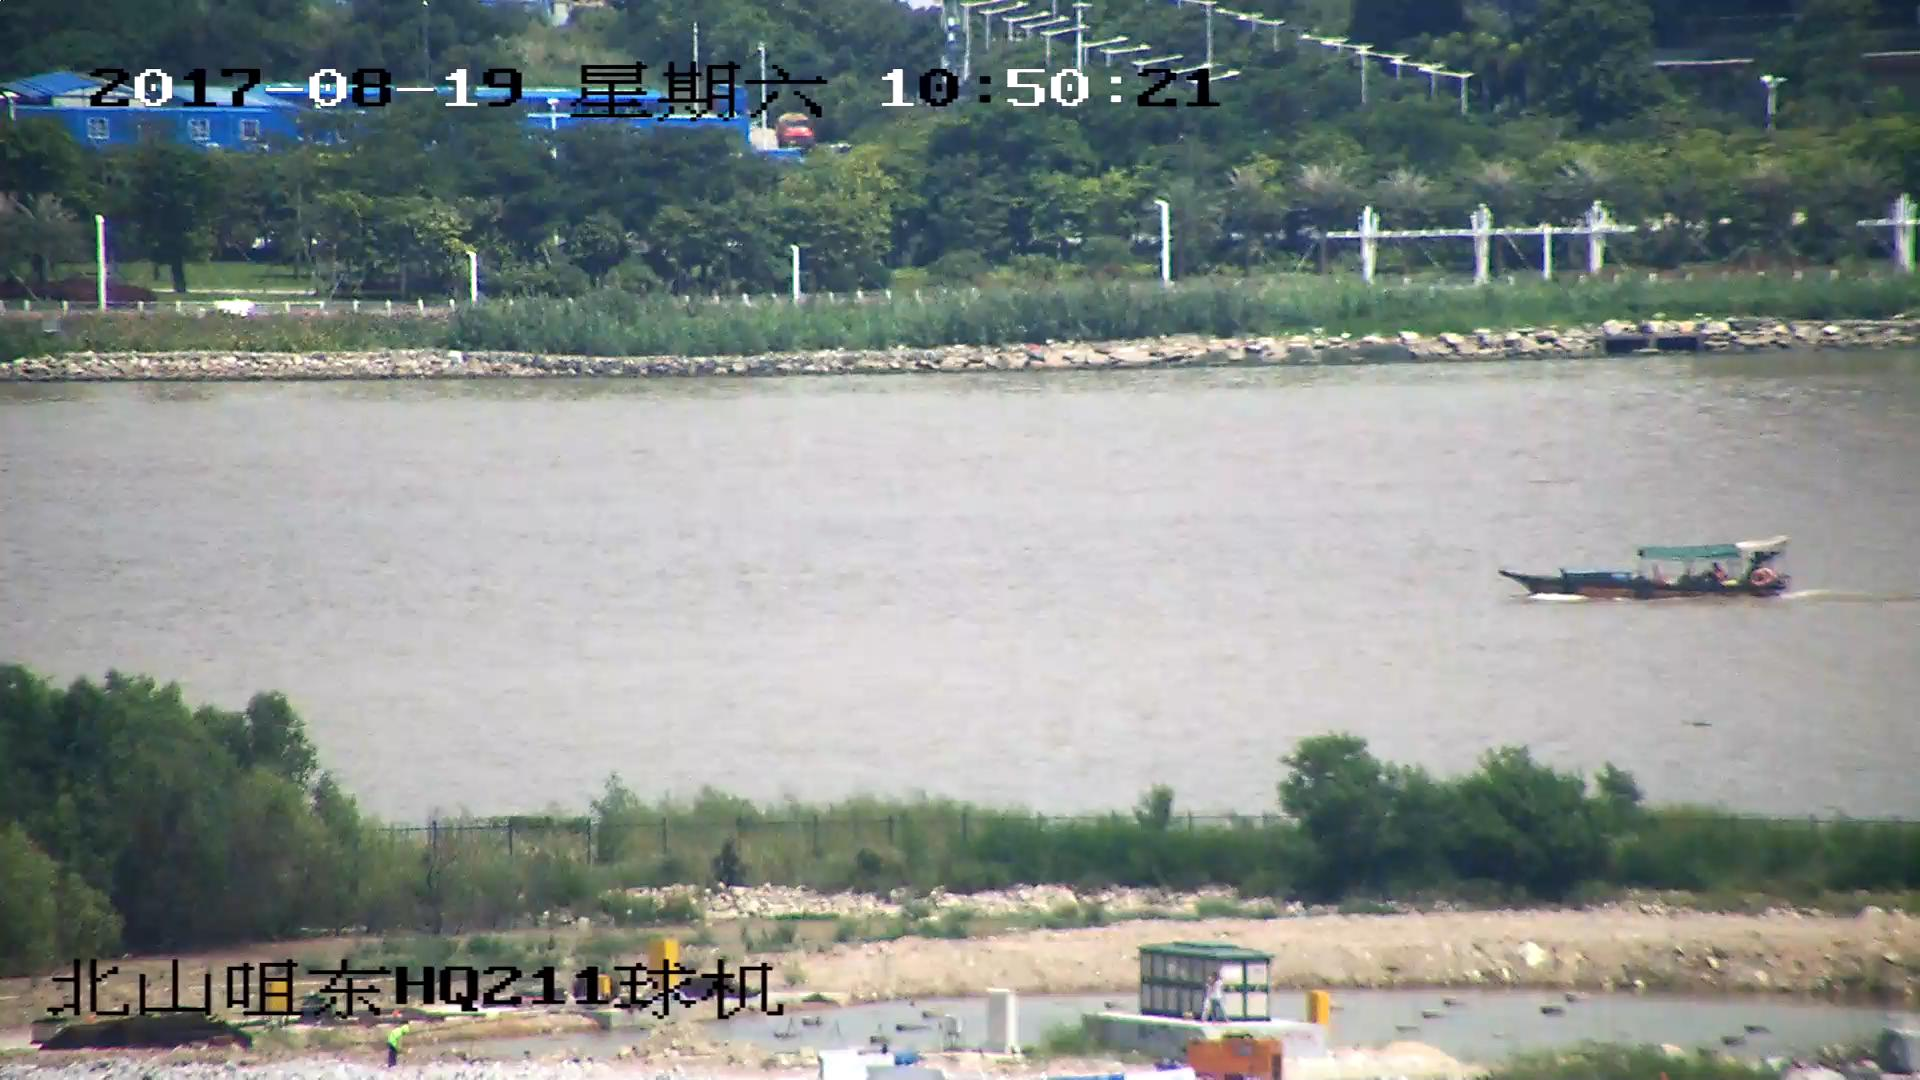fishing boat: (1496, 533, 1799, 600)
